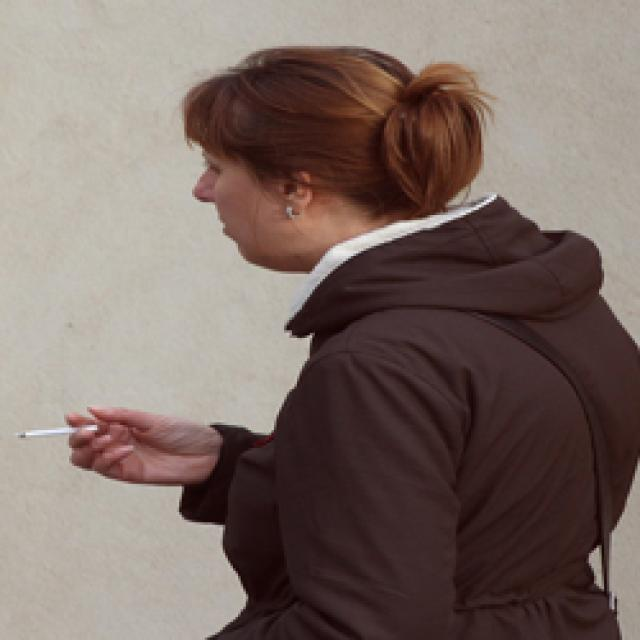Smooking: (12, 426, 107, 442)
